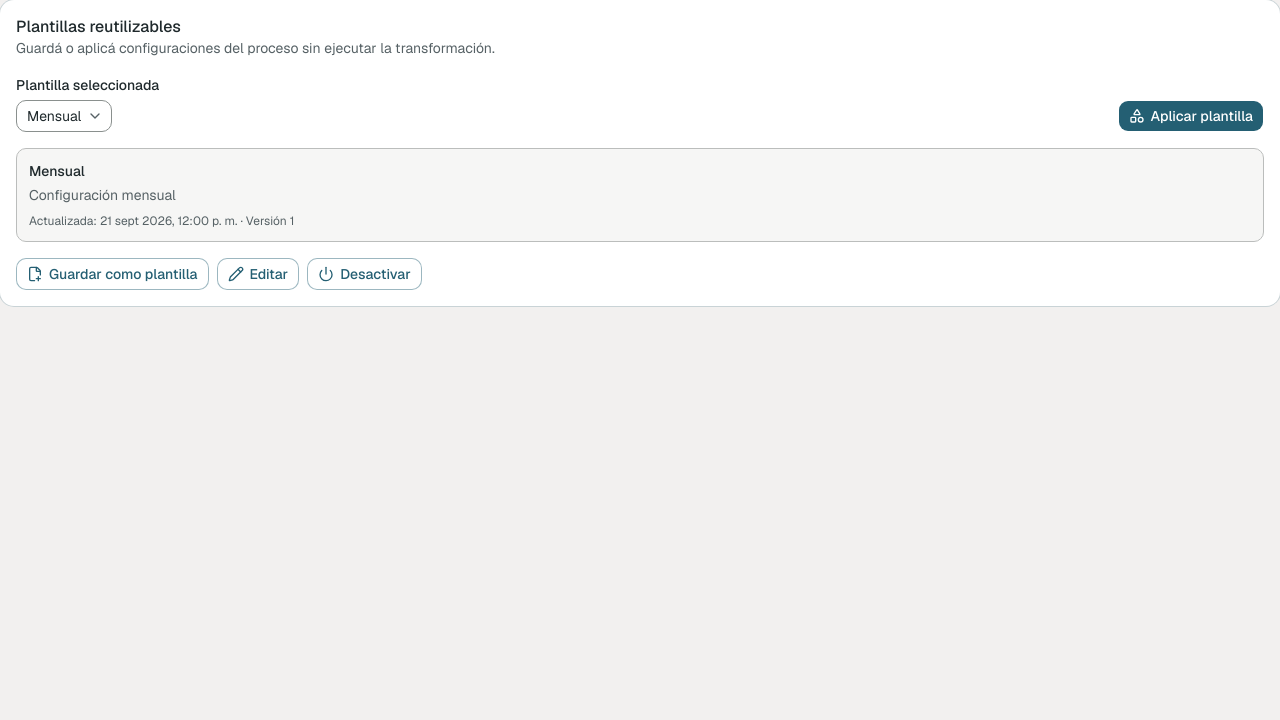
TransformationTemplatesPanel › confirma la pérdida de cambios locales y actualiza el constructor sólo tras éxito
Click the button "Aplicar plantilla".
click(1191, 116)  # box 1118,100 -> 1264,132
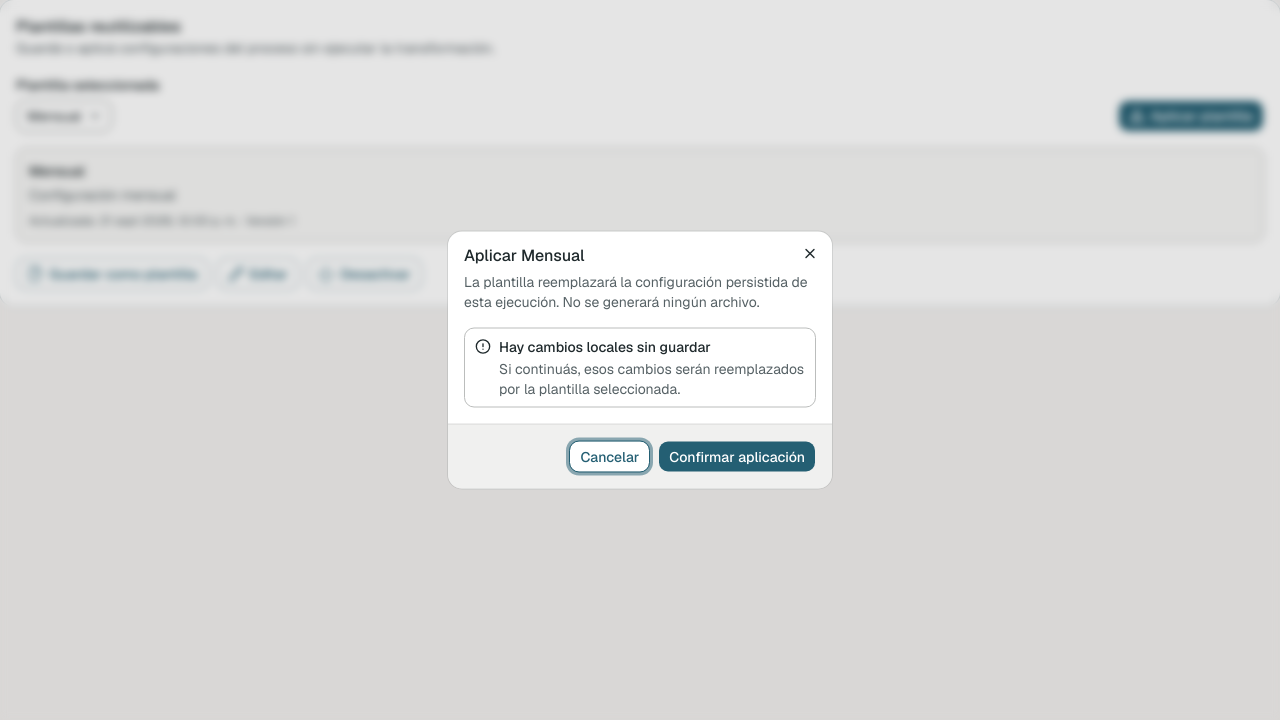
Now the text "Hay cambios locales sin guardar" is shown, box 499,338 -> 711,356
Click the button "Confirmar aplicación".
click(737, 456)  # box 658,440 -> 816,472
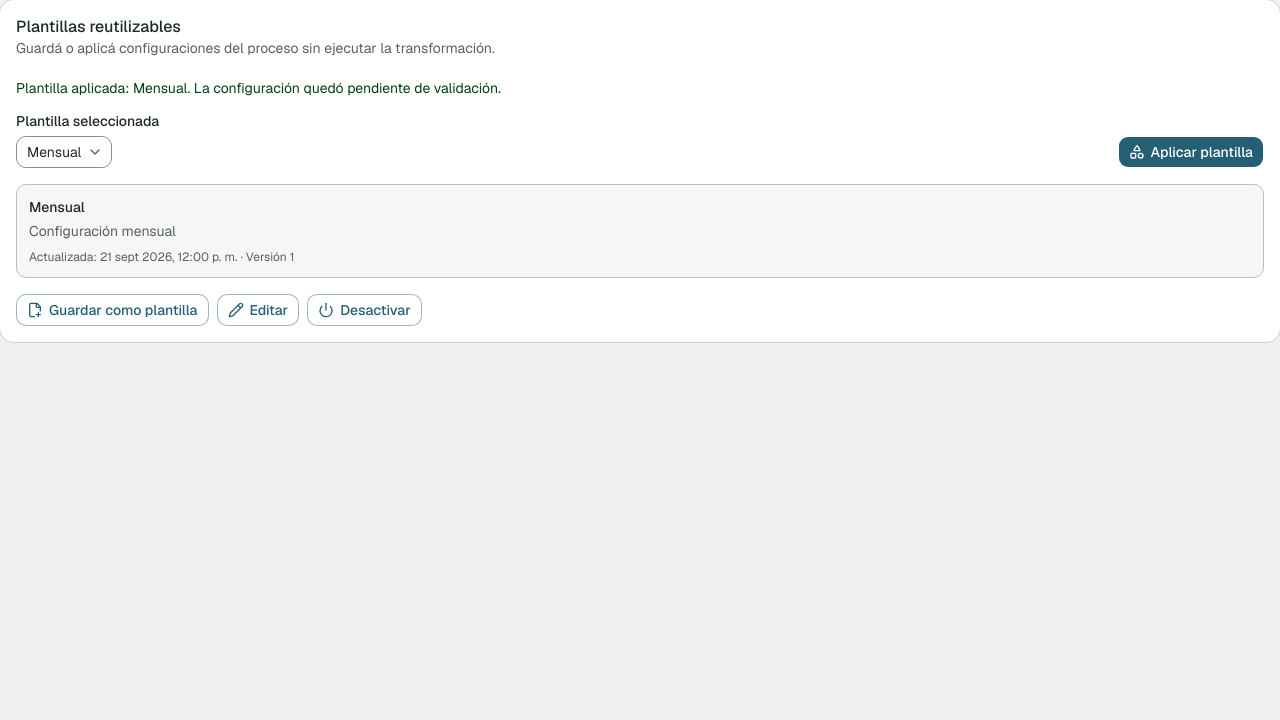
Now the text "Plantilla aplicada: Mensual. La configuración quedó pendiente de validación." is shown, box 16,79 -> 501,97
